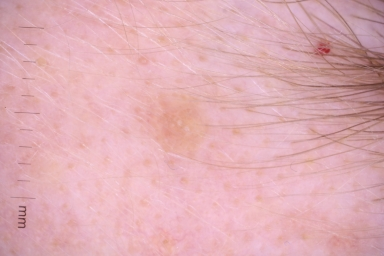nevus: (118, 66, 251, 183)
